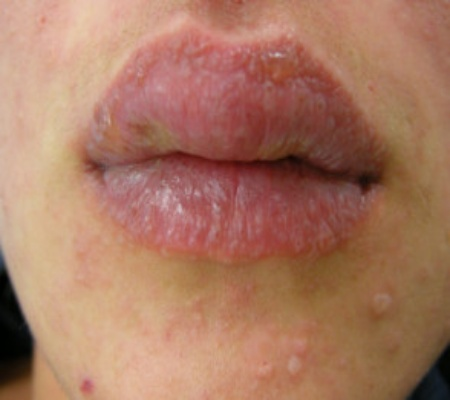SJS-TEN: (56, 0, 428, 303), (234, 286, 417, 400)
